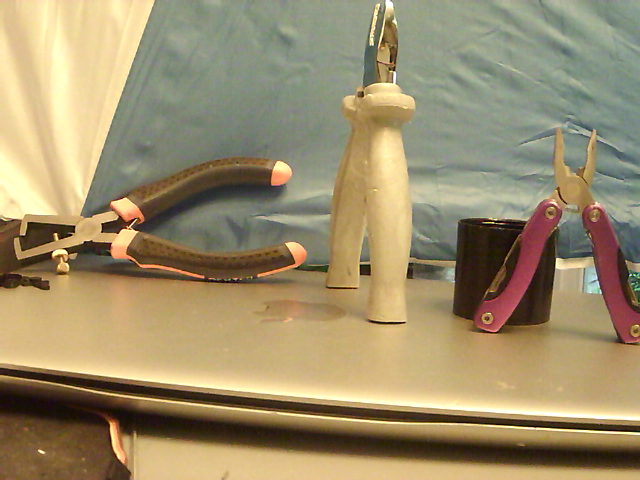pliers: (469, 124, 639, 344), (325, 1, 417, 326)
